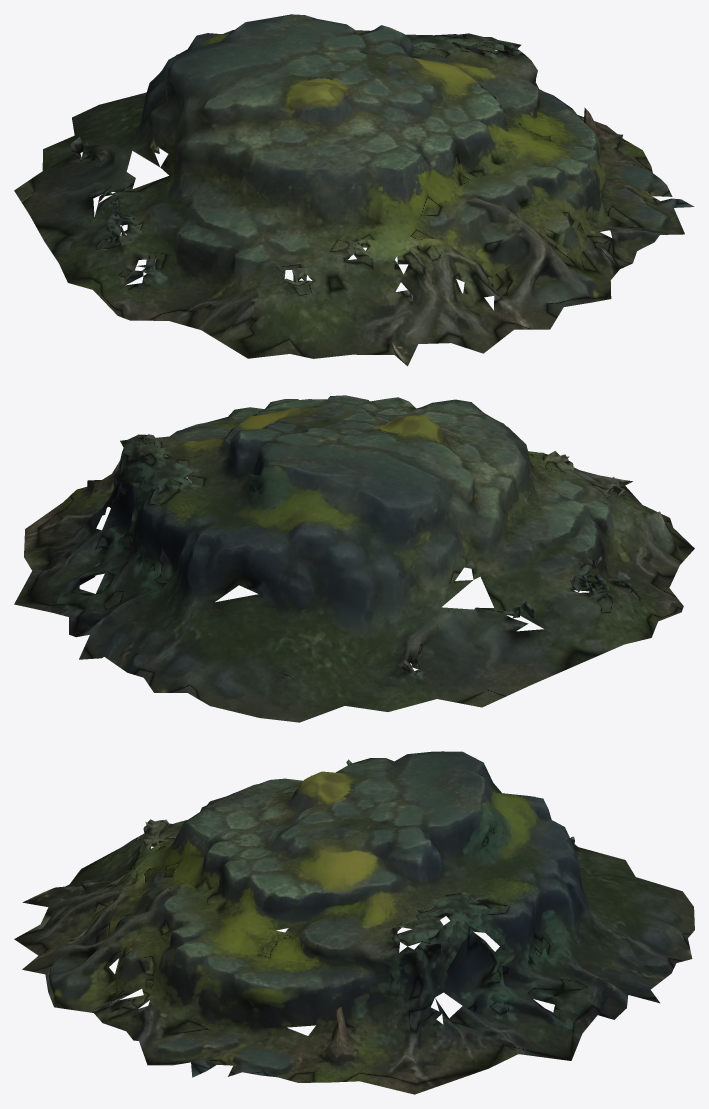
Rendered from swamp-mountain-2.glb.
3 renders of one model, top to bottom at view 1: azimuth 30°, elevation 25°; view 2: azimuth 150°, elevation 25°; view 3: azimuth 270°, elevation 25°, orthographic. The views are drawn at different scales.
Parts seen in each view (by area): view 1: geometry_0; view 2: geometry_0; view 3: geometry_0.
Part boxes in pixels (x1,y1,x2,y2): geometry_0: (14,14,694,366); geometry_0: (14,395,694,722); geometry_0: (14,751,694,1094).
Bounding box in the file's own units: 0.9075 × 0.2428 × 0.9325.
1 material, 1 textured.
